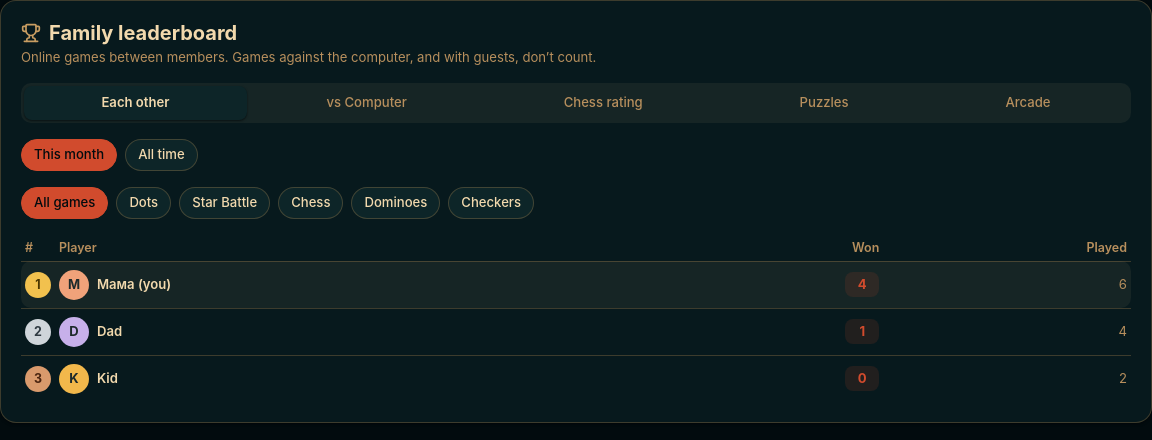
it: the Chess rating board › is a tab of its own, all time, with games played and provisional ratings marked
Click the tab "Chess rating".
click(603, 103)  # box x1=486 y1=86 x2=720 y2=120
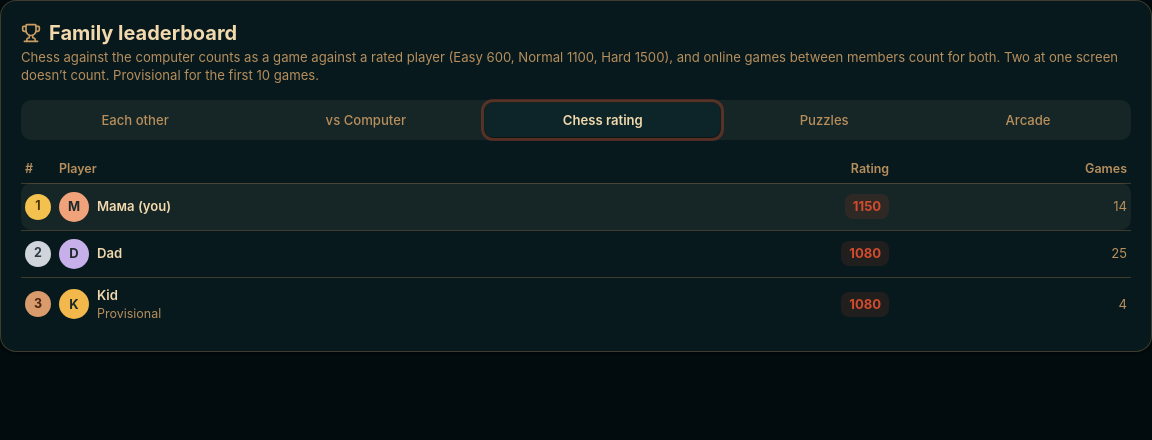
Expected: the element "Period" is gone
Expected: the row "3 K Kid Provisional 1080 4" is shown, x1=21 y1=277 x2=1131 y2=331
Expected: the element "Family leaderboard" shows "Easy 600, Normal 1100, Hard 1500", x1=21 y1=49 x2=1118 y2=83
